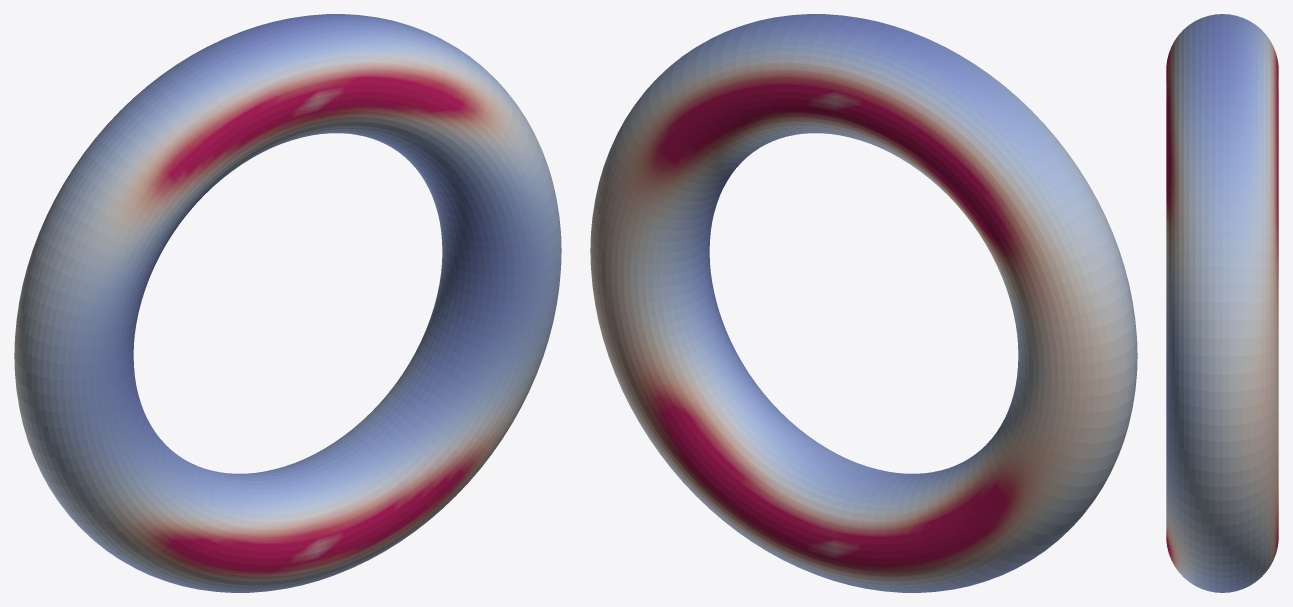
The picture shows the model from 3 angles, left to right: view 1: azimuth 30°, elevation 25°; view 2: azimuth 150°, elevation 25°; view 3: azimuth 270°, elevation 25°; orthographic projection. The views are drawn at different scales.
Parts seen in each view (by area): view 1: world; view 2: world; view 3: world.
Part boxes in pixels (left/top/right/bottom): world: left=14, top=14, right=561, bottom=592; world: left=590, top=14, right=1137, bottom=592; world: left=1166, top=14, right=1278, bottom=592.
Bounding box in the file's own units: 24 × 24 × 4.66.
